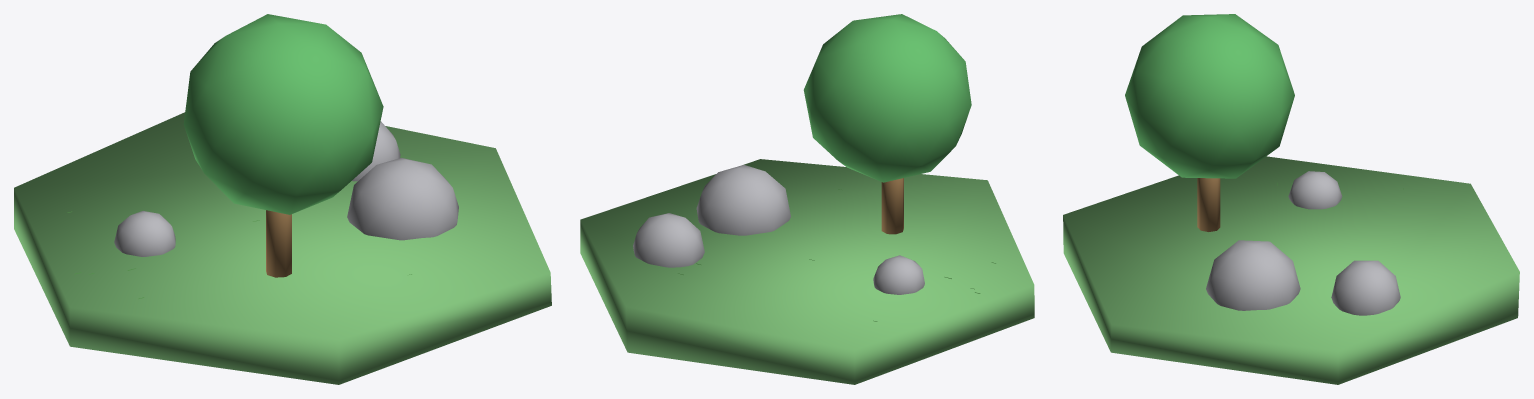
Rendered from grassland_v2.glb.
3 views of the same model, side by side, from view 1: azimuth 30°, elevation 25°; view 2: azimuth 150°, elevation 25°; view 3: azimuth 270°, elevation 25° (orthographic). The views are drawn at different scales.
Visible parts, largest first — view 1: grassland_tile_2.001, tree_crown_Icosphere.003, rock_Icosphere.017, rock_Icosphere.019, tree_trunk_Cylinder.003, rock_Icosphere.018; view 2: grassland_tile_2.001, tree_crown_Icosphere.003, rock_Icosphere.017, rock_Icosphere.018, rock_Icosphere.019, tree_trunk_Cylinder.003; view 3: grassland_tile_2.001, tree_crown_Icosphere.003, rock_Icosphere.017, rock_Icosphere.018, rock_Icosphere.019, tree_trunk_Cylinder.003.
Boxes of the visible parts, <box> form: grassland_tile_2.001: <box>14,112,551,384</box>; tree_crown_Icosphere.003: <box>183,14,383,214</box>; rock_Icosphere.017: <box>347,158,458,240</box>; rock_Icosphere.019: <box>114,211,175,256</box>; tree_trunk_Cylinder.003: <box>266,210,291,277</box>; rock_Icosphere.018: <box>352,121,400,181</box>; grassland_tile_2.001: <box>580,159,1034,384</box>; tree_crown_Icosphere.003: <box>803,14,971,182</box>; rock_Icosphere.017: <box>696,165,790,235</box>; rock_Icosphere.018: <box>633,213,704,267</box>; rock_Icosphere.019: <box>873,255,924,294</box>; tree_trunk_Cylinder.003: <box>881,178,903,234</box>; grassland_tile_2.001: <box>1063,156,1519,384</box>; tree_crown_Icosphere.003: <box>1125,14,1294,178</box>; rock_Icosphere.017: <box>1206,240,1300,310</box>; rock_Icosphere.018: <box>1331,260,1400,315</box>; rock_Icosphere.019: <box>1288,171,1342,209</box>; tree_trunk_Cylinder.003: <box>1197,178,1220,231</box>.
Size of the model in its own units: 0.9804 by 0.5698 by 0.9526.
